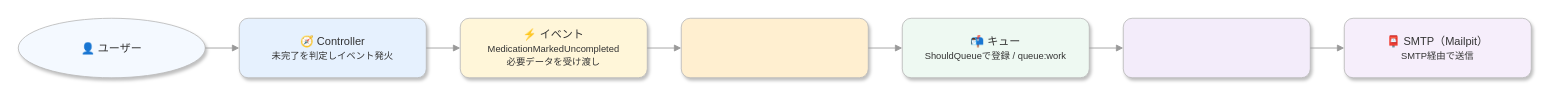
Image size: 1551x99. Some labels were removed from this diagram. The shapes that lost their labels are listed below. From the top down, each one's centre as x and y in pixels, then its label:
point 775,49: 🧩 リスナー SendMedicationUncompletedNotification 送信可否チェック＆Mailable作成
point 1217,49: ✉️ Mailable 件名/本文組立・ビュー描画
